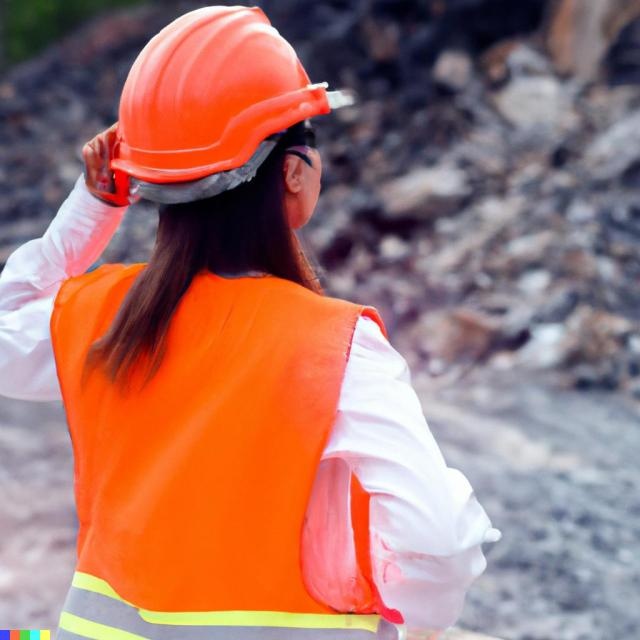Reflective-Jacket: (36, 253, 396, 638)
Safety-Helmet: (108, 6, 332, 184)
